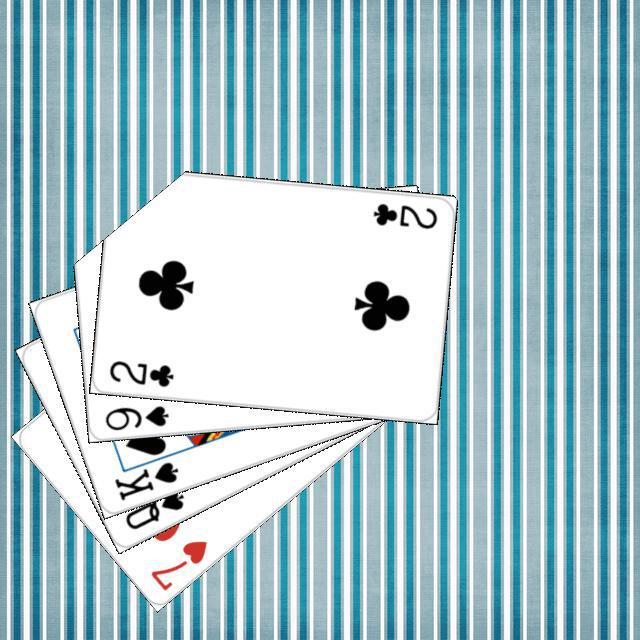2c: (104, 355, 176, 389), (368, 198, 439, 231)
7h: (145, 535, 209, 593)
9s: (100, 401, 170, 433)
Ks: (109, 456, 180, 502)
Qs: (120, 484, 186, 531)
